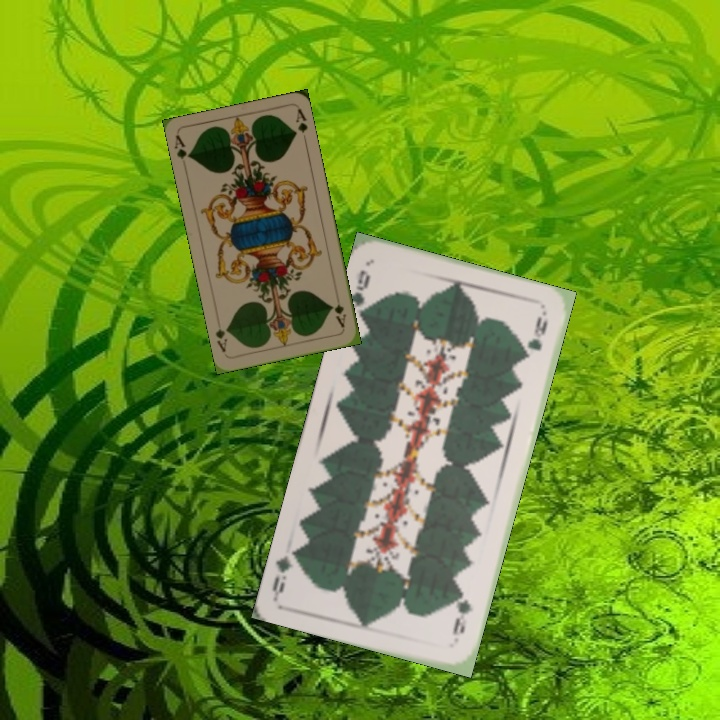G9: (448, 588, 474, 638), (345, 266, 373, 312)
GA: (329, 290, 349, 330), (171, 132, 193, 162)
